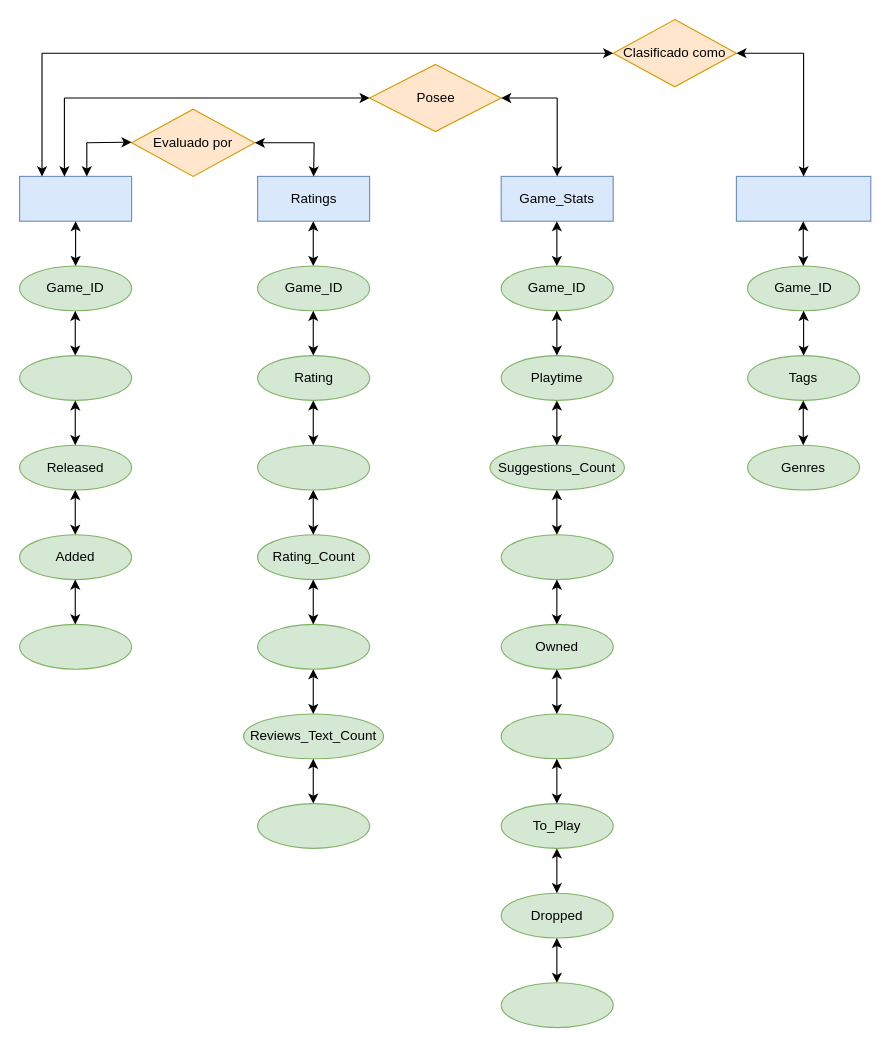
Some shapes in this 890 by 1047 pixel diagram are drawn without their labels. The shapes that lost their labels are listed below. From the top down, each one's centre as x and y in pixels, then its label:
At [75,198]: "GAMES".
At [803,198]: "Game_Tags_Genre".
At [75,377]: "Slug".
At [313,467]: "Rating_Top".
At [556,557]: "Yet".
At [75,646]: "Updated".
At [313,646]: "Metacritic".
At [556,736]: "Beaten".
At [313,825]: "Attribute".
At [556,1005]: "Playing".
